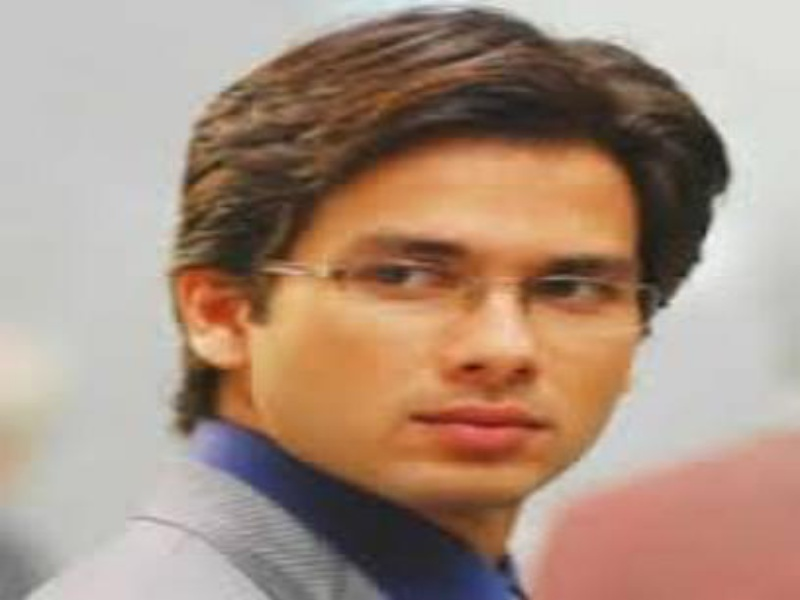TsisyArotava: (248, 112, 697, 538)
